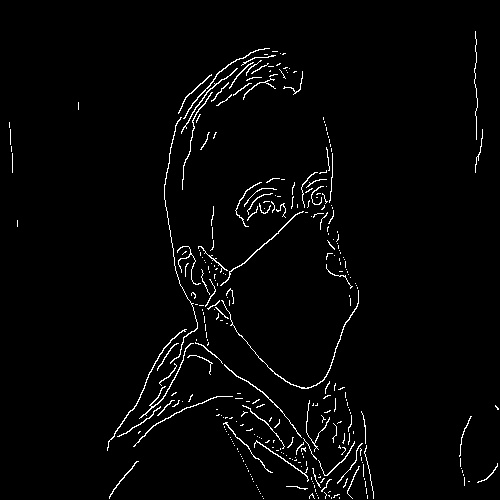mask: (215, 230, 374, 388)
